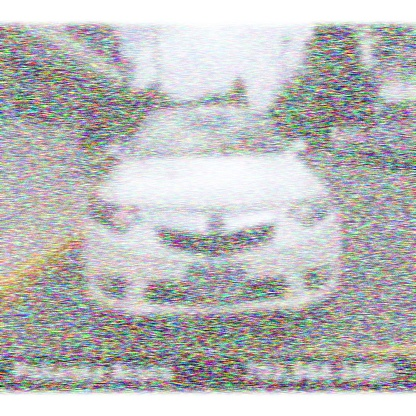Vehicle: (81, 110, 346, 324)
